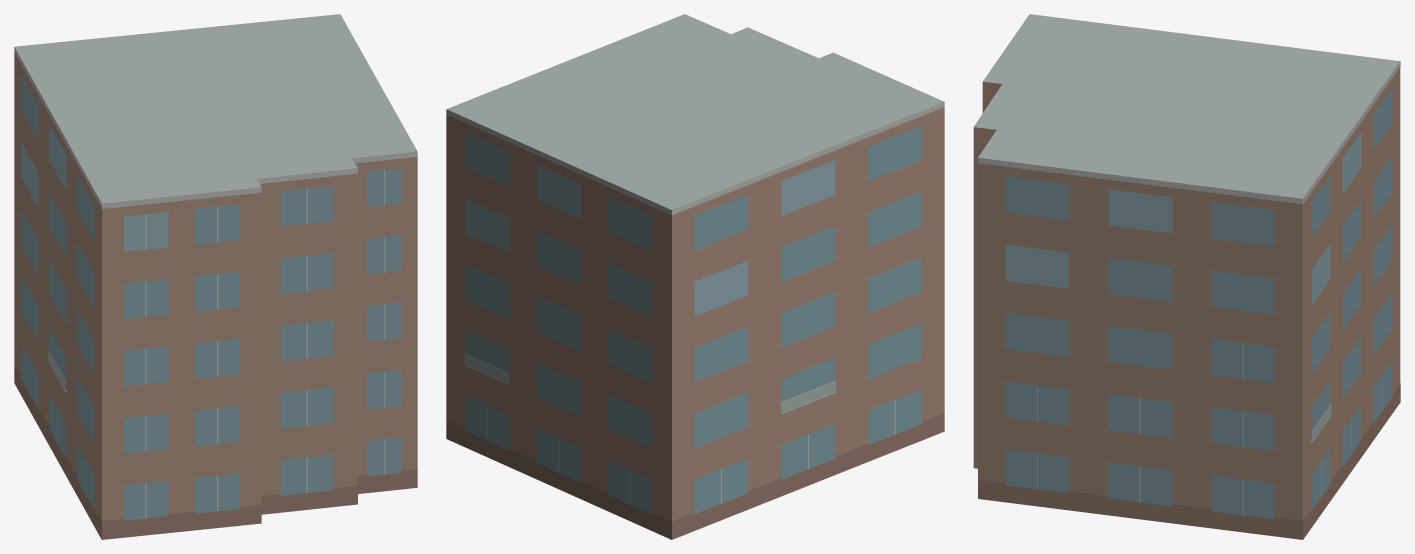
File: survey-upis-32873979.glb
The picture shows the model from 3 angles, left to right: view 1: azimuth 30°, elevation 25°; view 2: azimuth 150°, elevation 25°; view 3: azimuth 270°, elevation 25°; orthographic projection. The views are drawn at different scales.
Visible parts, largest first — view 1: survey-upis-32873979.tmp; view 2: survey-upis-32873979.tmp; view 3: survey-upis-32873979.tmp.
Boxes of the visible parts, x1,y1,x2,y2 form: survey-upis-32873979.tmp: (14, 14, 417, 539); survey-upis-32873979.tmp: (446, 14, 944, 539); survey-upis-32873979.tmp: (973, 14, 1400, 539).
Size of the model in its own units: 17.73 by 15.25 by 17.31.
